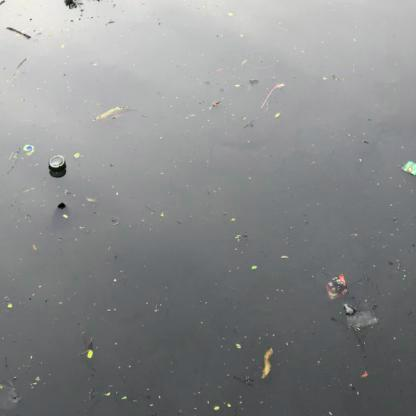Trash: (339, 299, 383, 332), (325, 270, 350, 304), (401, 158, 415, 179)
